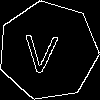V: (23, 26, 60, 74)
